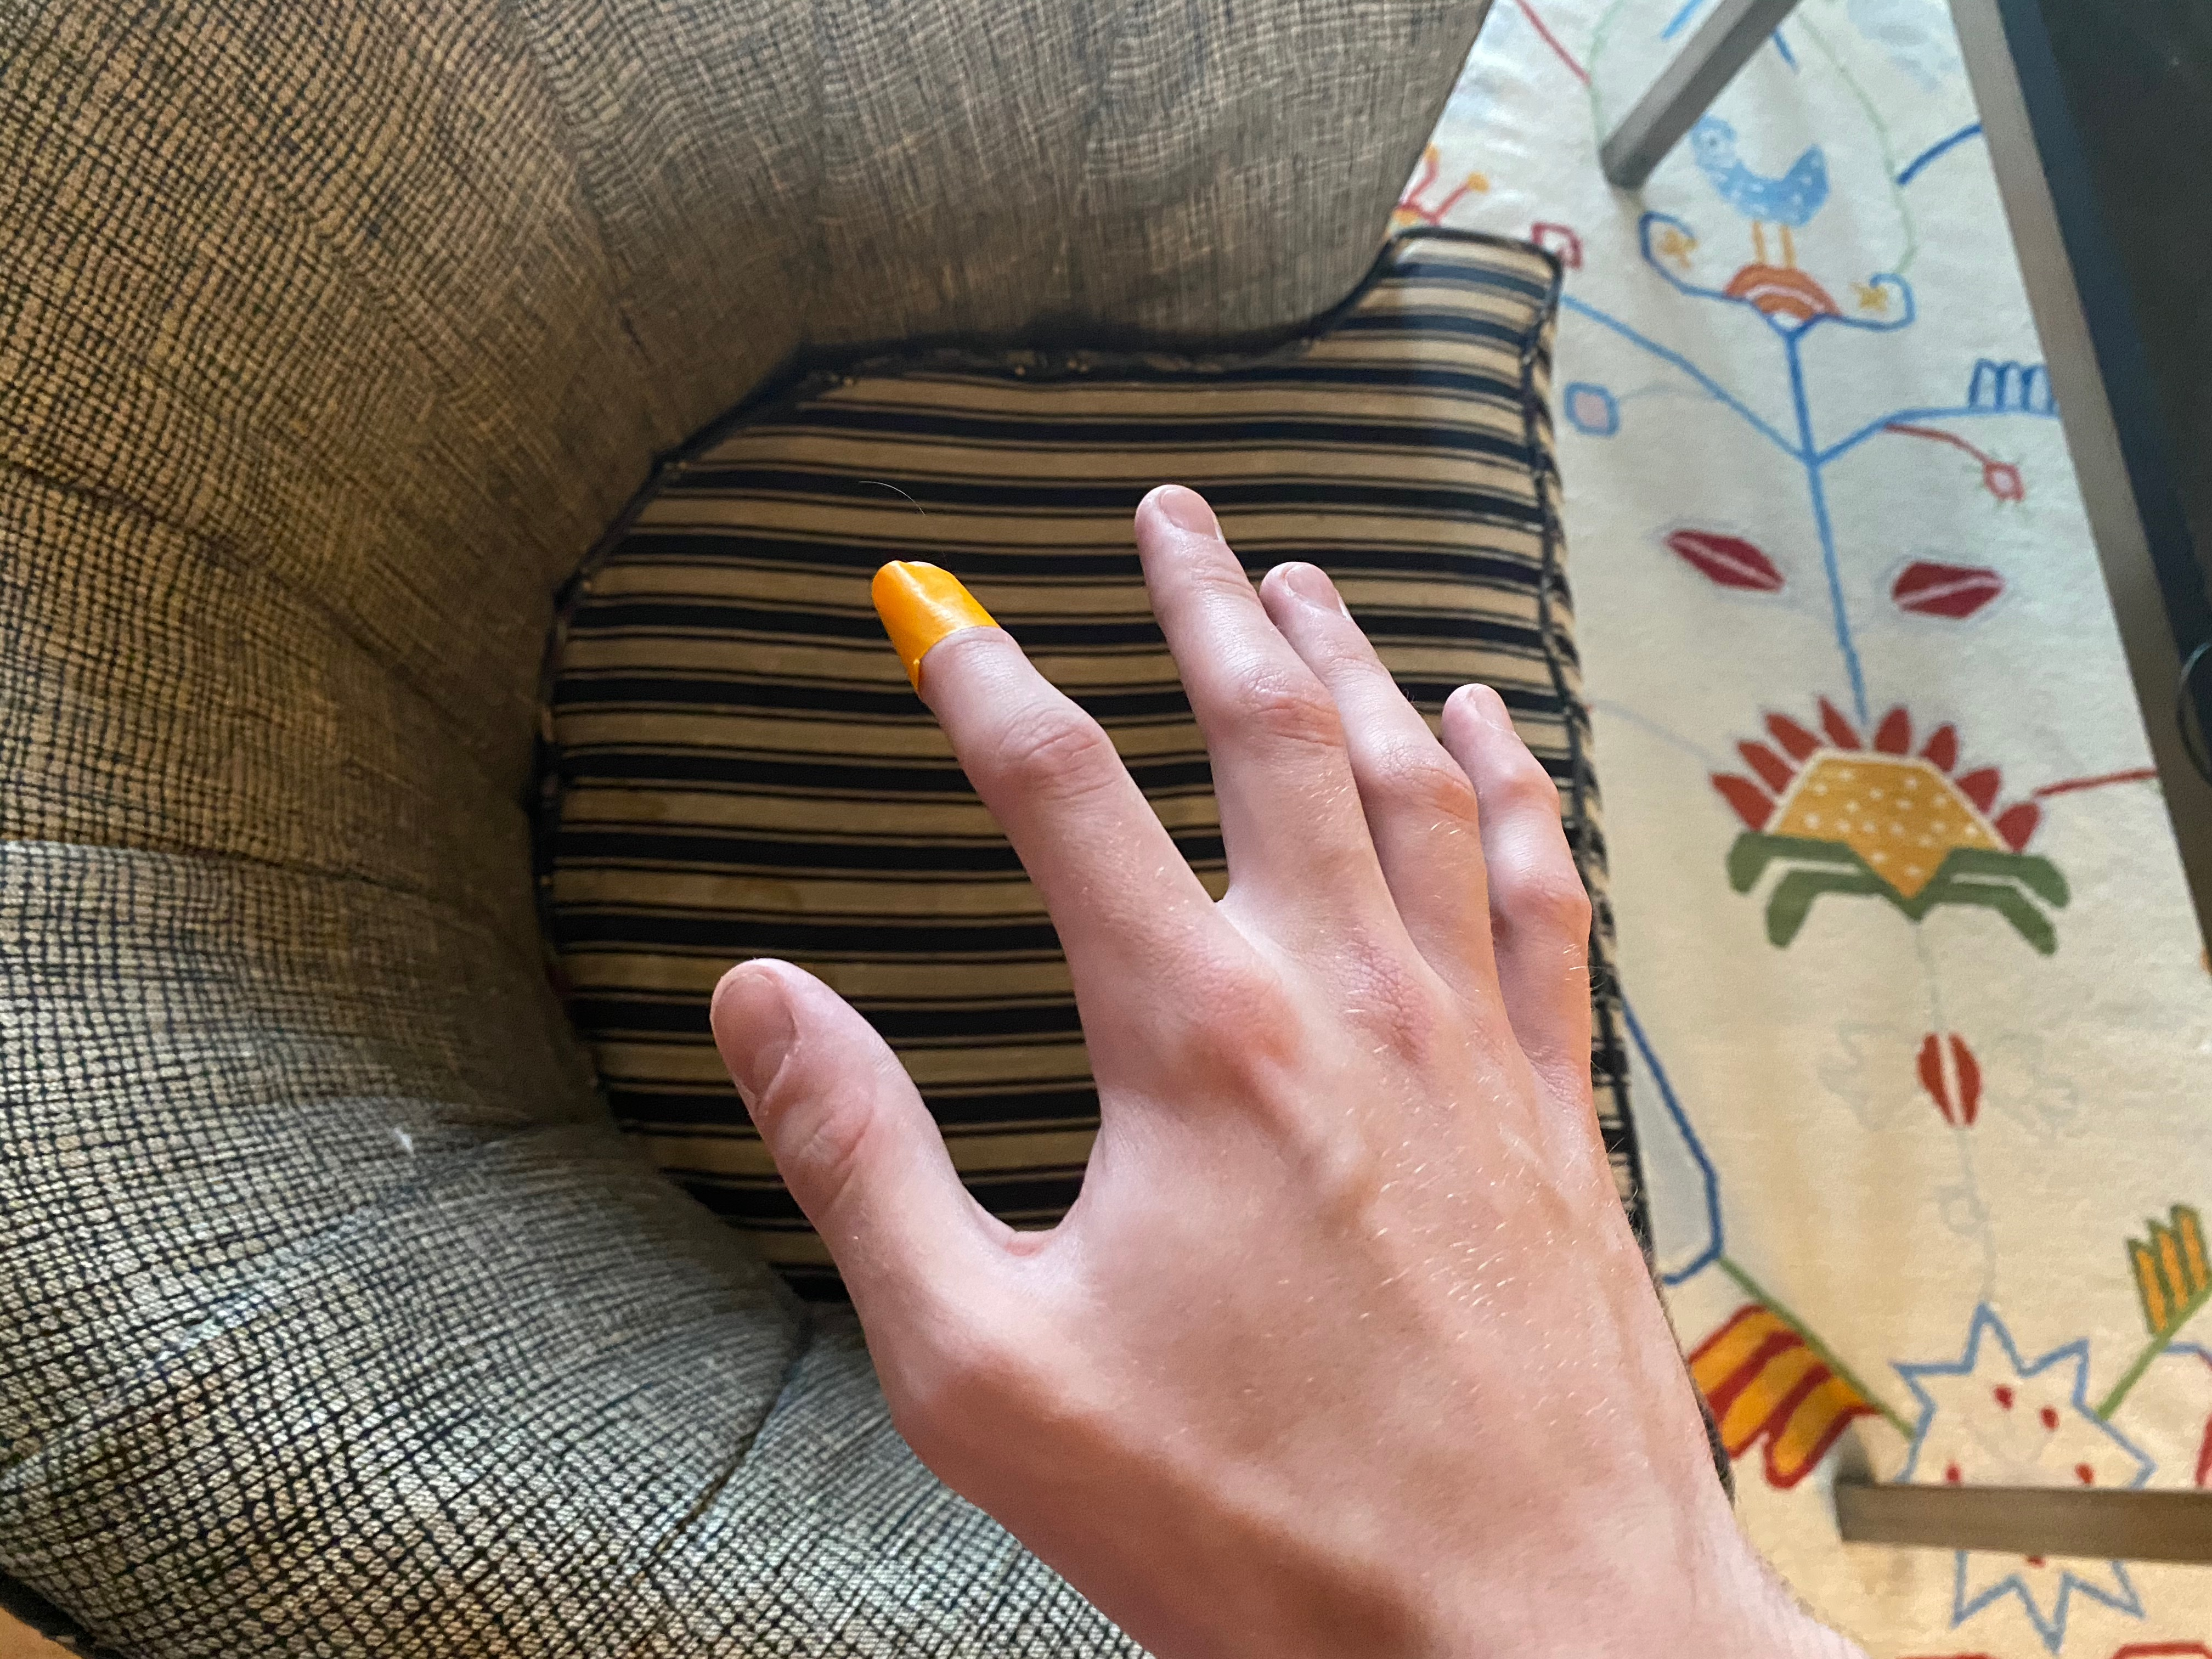fingertip: (852, 545, 1090, 706)
